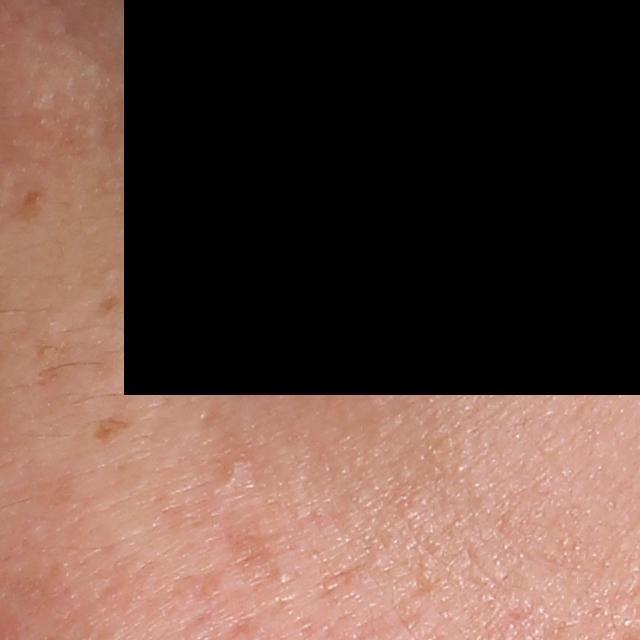melasma: (90, 414, 141, 449), (16, 183, 55, 223), (86, 289, 122, 318)
